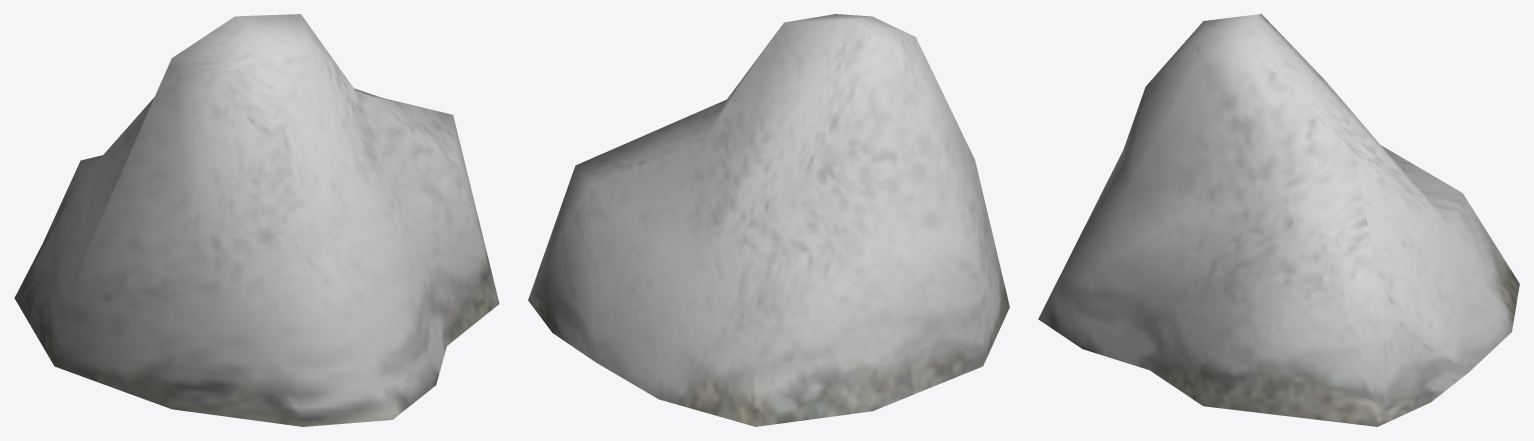
File: general_obj_stone06_lod_01.fbx
The picture shows the model from 3 angles, left to right: view 1: azimuth 30°, elevation 25°; view 2: azimuth 150°, elevation 25°; view 3: azimuth 270°, elevation 25°; orthographic projection. The views are drawn at different scales.
Visible parts, largest first — view 1: Sphere01; view 2: Sphere01; view 3: Sphere01.
Boxes of the visible parts, <box> form: Sphere01: <box>14,14,499,426</box>; Sphere01: <box>528,14,1009,426</box>; Sphere01: <box>1038,14,1519,426</box>.
Size of the model in its own units: 3.85 by 2.67 by 4.03.
